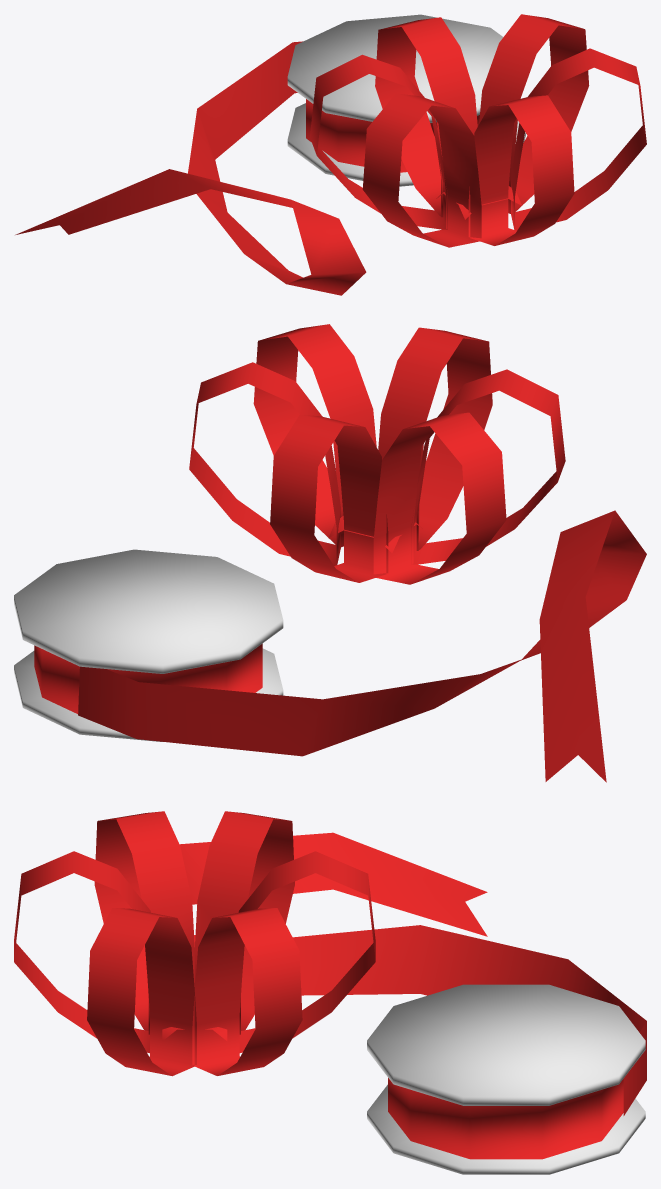
File: ribbon081111927.fbx
3 views of the same model, one above another, from view 1: azimuth 30°, elevation 25°; view 2: azimuth 150°, elevation 25°; view 3: azimuth 270°, elevation 25° (orthographic). The views are drawn at different scales.
Visible parts, largest first — view 1: 平面; view 2: 平面; view 3: 平面.
Boxes of the visible parts, bbox=[...] form: 平面: bbox=[15, 14, 646, 295]; 平面: bbox=[14, 324, 646, 782]; 平面: bbox=[14, 811, 646, 1174].
Size of the model in its own units: 220 by 83.92 by 212.
